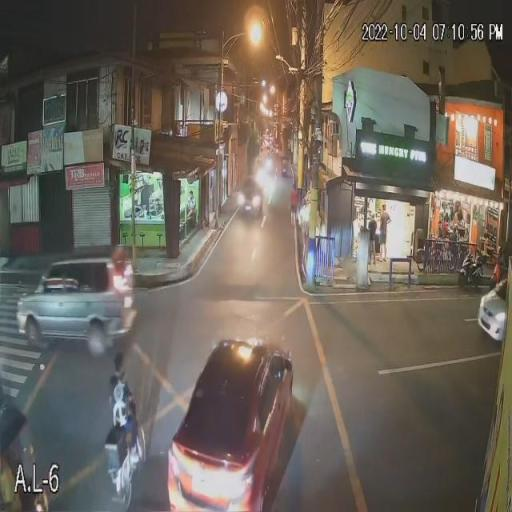motorcycle: (454, 250, 484, 290)
